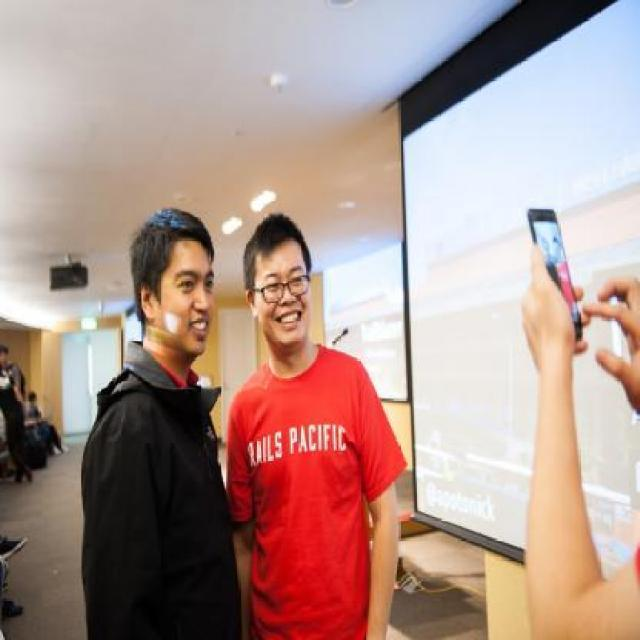phone: (525, 203, 587, 341)
